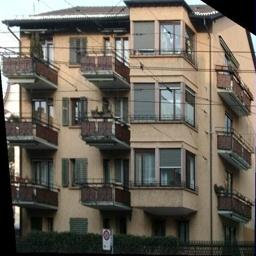building: (19, 0, 211, 238)
